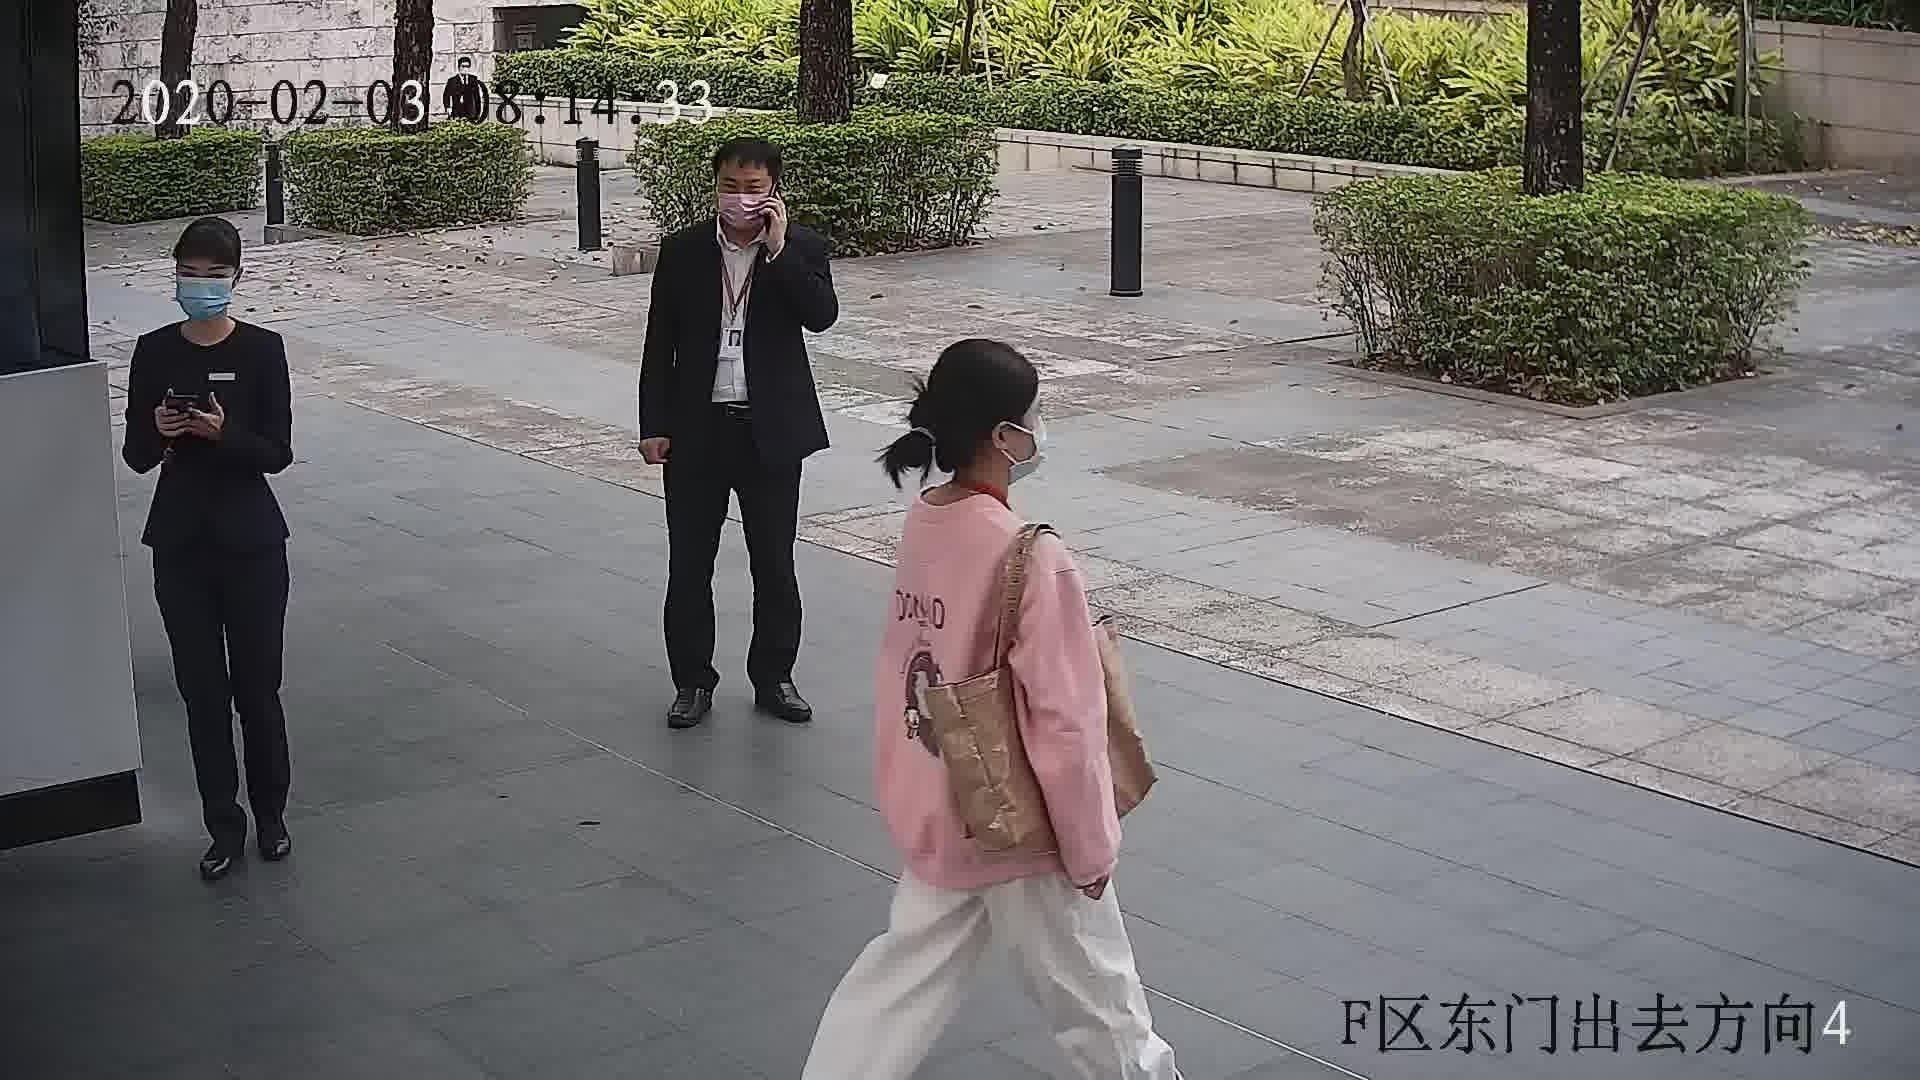face: (989, 384, 1054, 483), (706, 158, 776, 233), (168, 250, 233, 319)
mask: (173, 270, 234, 317), (1008, 420, 1050, 481), (717, 189, 769, 233)
person: (887, 331, 1078, 607), (656, 136, 830, 283), (136, 222, 290, 380)
